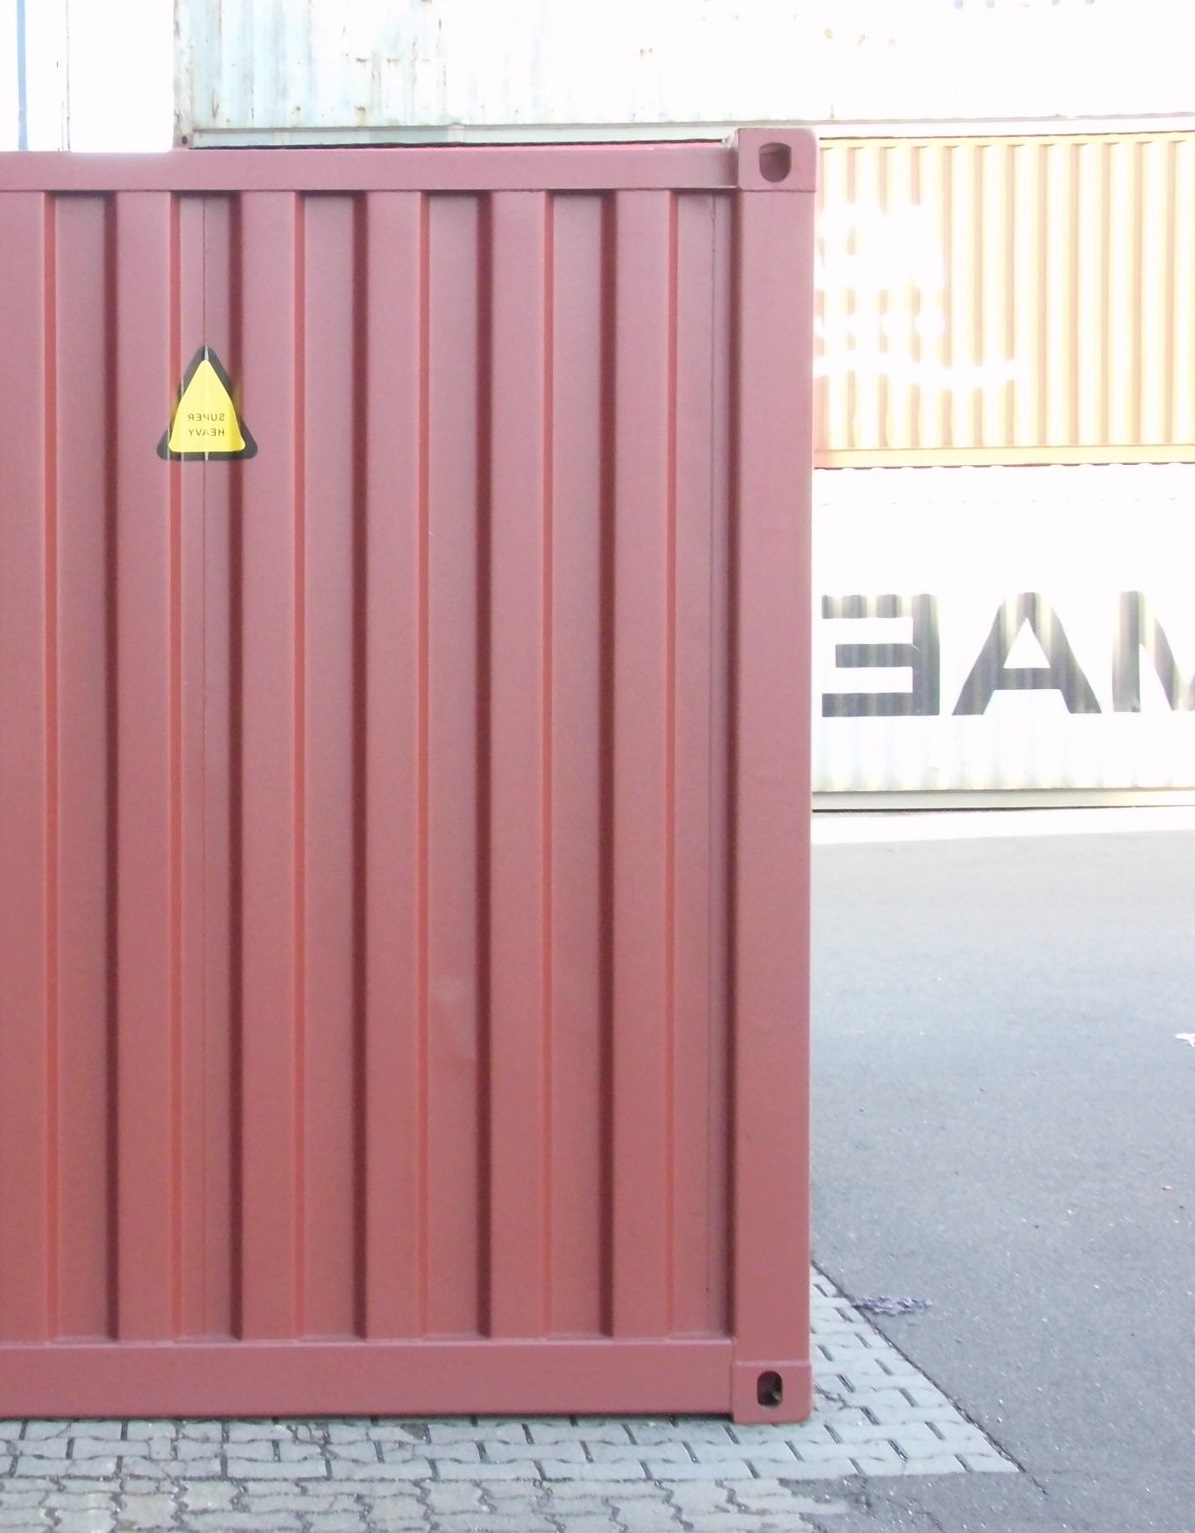container_no_door: (1, 147, 815, 1433)
